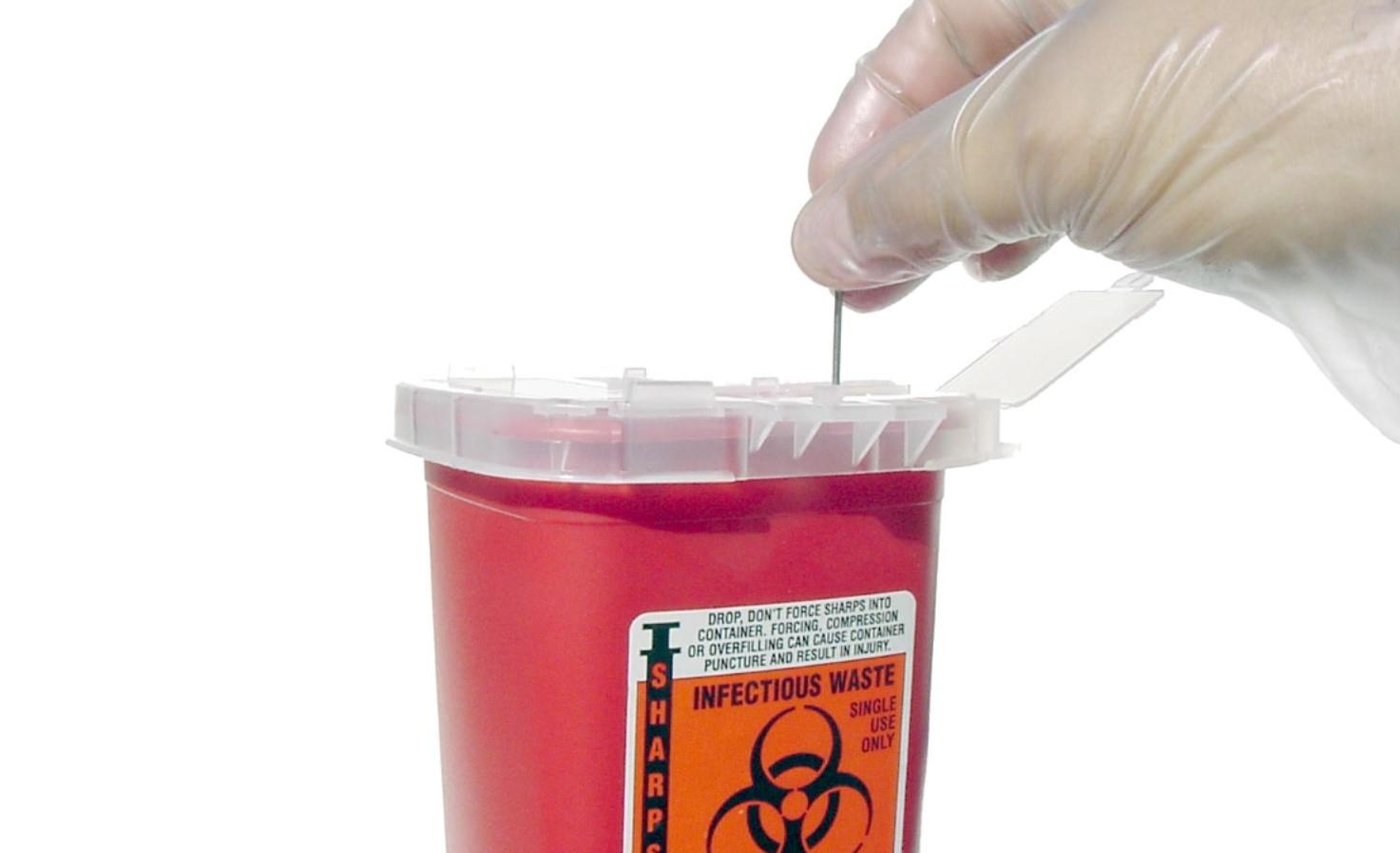Glove: (794, 0, 1399, 439)
